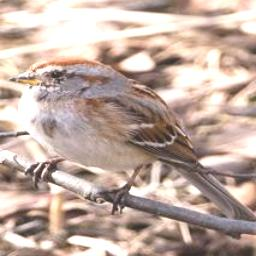Sparrow: (6, 52, 256, 241)
